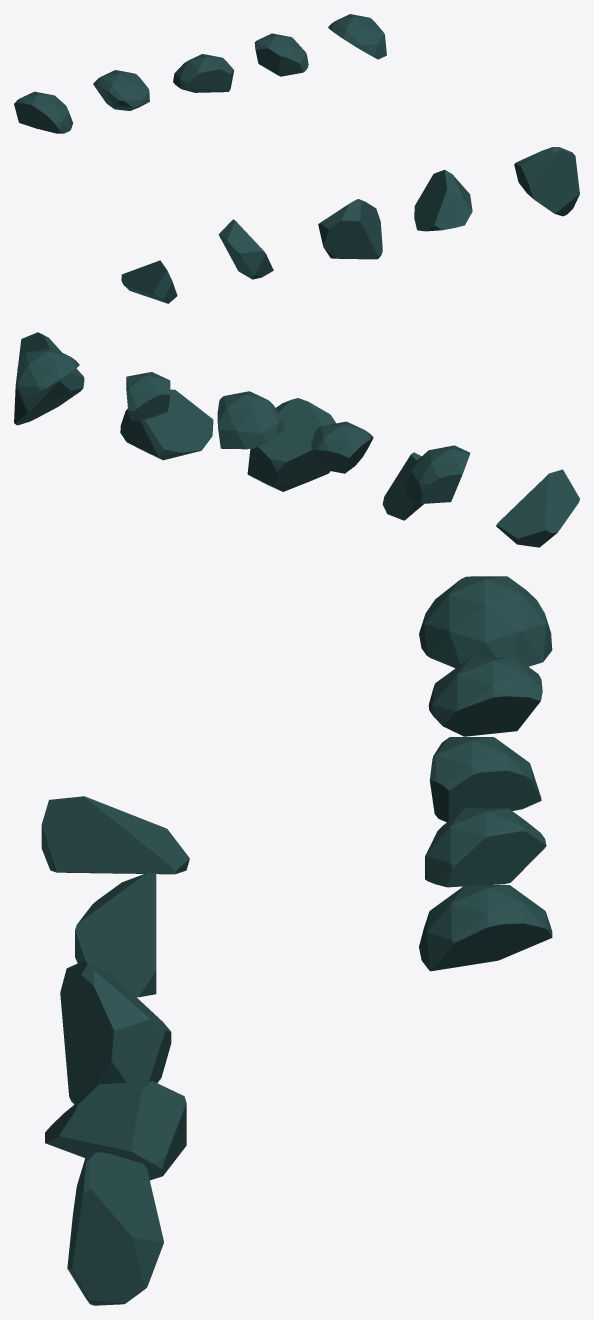
Rendered from 10-Stones.FBX.
3 renders of one model, top to bottom at view 1: azimuth 30°, elevation 25°; view 2: azimuth 150°, elevation 25°; view 3: azimuth 270°, elevation 25°, orthographic. The views are drawn at different scales.
Visible parts, largest first — view 1: Stn10, Stn8, Stn9, Stn3, Stn1, Stn4, Stn7, Stn2, Stn5, Stn6; view 2: Stn8, Stn9, Stn6, Stn3, Stn1, Stn10, Stn2, Stn5, Stn4, Stn7; view 3: Stn10, Stn8, Stn1, Stn9, Stn6, Stn5, Stn4, Stn7, Stn2, Stn3.
Boxes of the visible parts, x1,y1,x2,y2 form: Stn10: [514, 147, 579, 216]; Stn8: [318, 199, 382, 259]; Stn9: [414, 169, 472, 231]; Stn3: [173, 54, 234, 92]; Stn1: [14, 91, 72, 133]; Stn4: [254, 33, 308, 76]; Stn7: [218, 219, 273, 279]; Stn2: [93, 70, 149, 110]; Stn5: [328, 14, 386, 59]; Stn6: [121, 260, 177, 303]; Stn8: [247, 398, 335, 491]; Stn9: [120, 389, 213, 460]; Stn6: [496, 469, 579, 547]; Stn3: [217, 391, 283, 449]; Stn1: [405, 445, 470, 503]; Stn10: [14, 332, 84, 425]; Stn2: [311, 421, 373, 473]; Stn5: [17, 348, 79, 397]; Stn4: [126, 372, 170, 420]; Stn7: [382, 452, 423, 520]; Stn10: [67, 1152, 163, 1305]; Stn8: [60, 960, 171, 1104]; Stn1: [419, 576, 552, 668]; Stn9: [45, 1081, 186, 1180]; Stn6: [41, 796, 189, 874]; Stn5: [419, 885, 552, 971]; Stn4: [425, 808, 546, 887]; Stn7: [75, 873, 156, 997]; Stn2: [428, 657, 542, 736]; Stn3: [429, 737, 541, 822].
Bounding box in the file's own units: 385 × 124 × 187.
